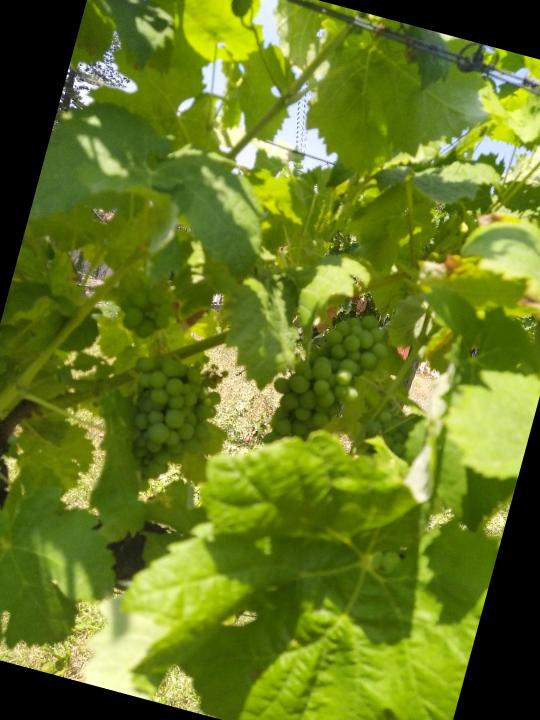grape: (255, 293, 399, 471), (105, 343, 232, 492)
